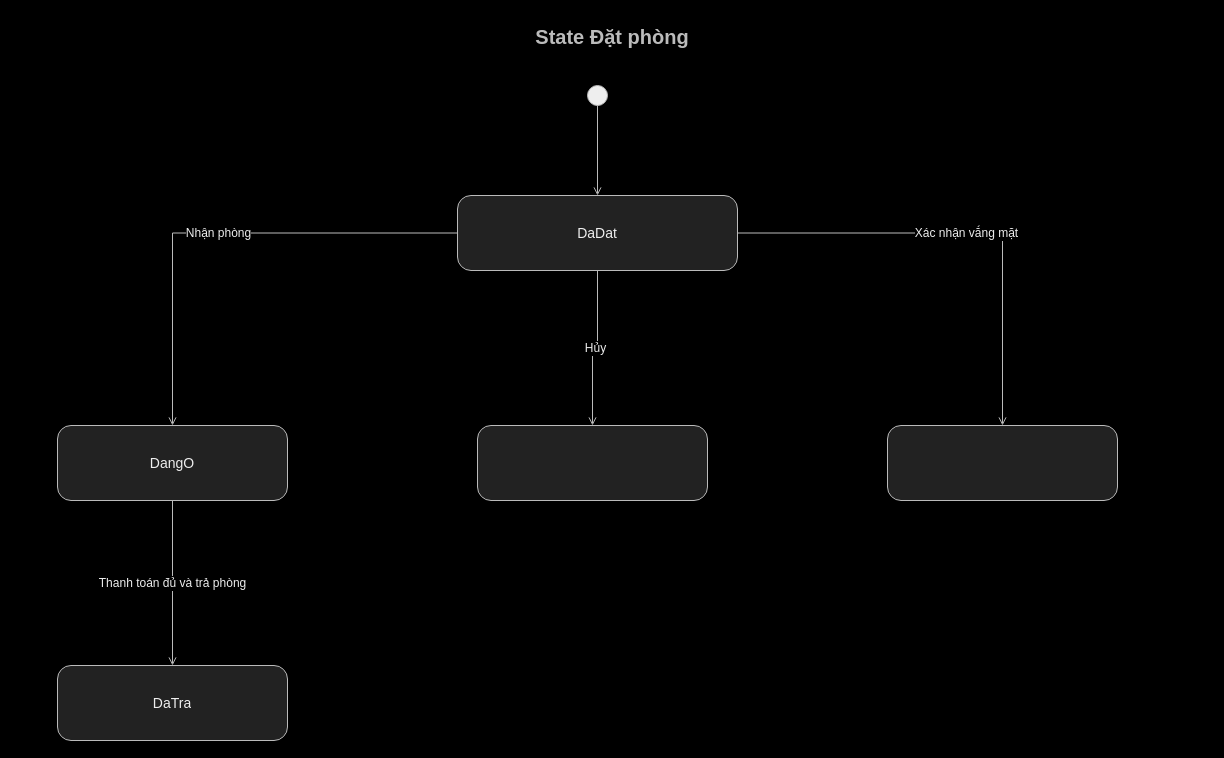
The diagram is 1224 pixels wide and 758 high, and some of its shapes have lost their labels. The shapes that lost their labels are listed below. From the top down, each one's centre as x and y in pixels, then its label:
At [592,462]: "Huy".
At [1002,462]: "NoShow".
